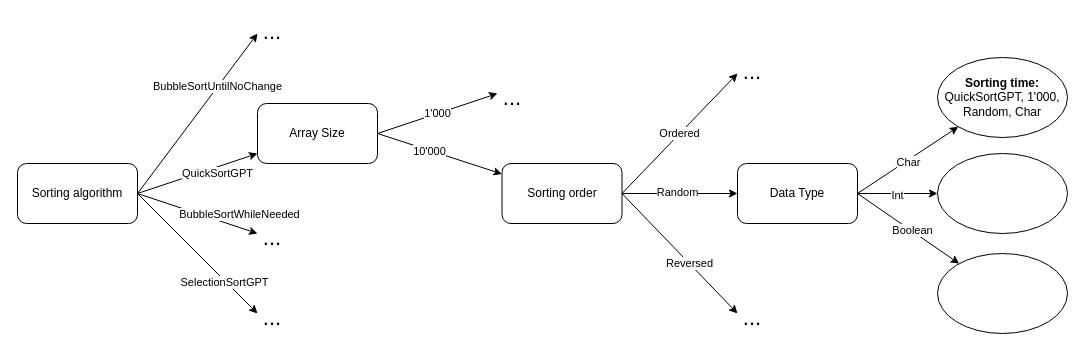
The diagram is 1085 pixels wide and 351 high, and some of its shapes have lost their labels. The centre of each missing label's shape, as x and y in pixels:
"Sorting time: QuickSortGPT, 1'000, Random, Boolean" goes at point 1002,293.
"Sorting time: QuickSortGPT, 1'000, Random, Int" goes at point 1002,193.
